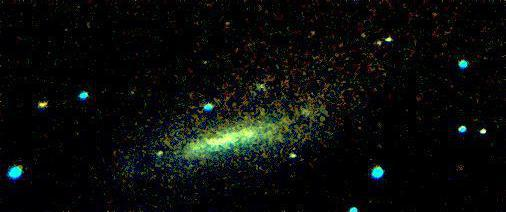star: (147, 141, 177, 171)
